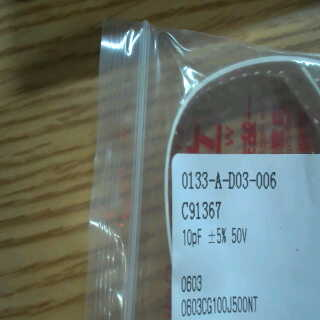10pF: (176, 225, 207, 249)
